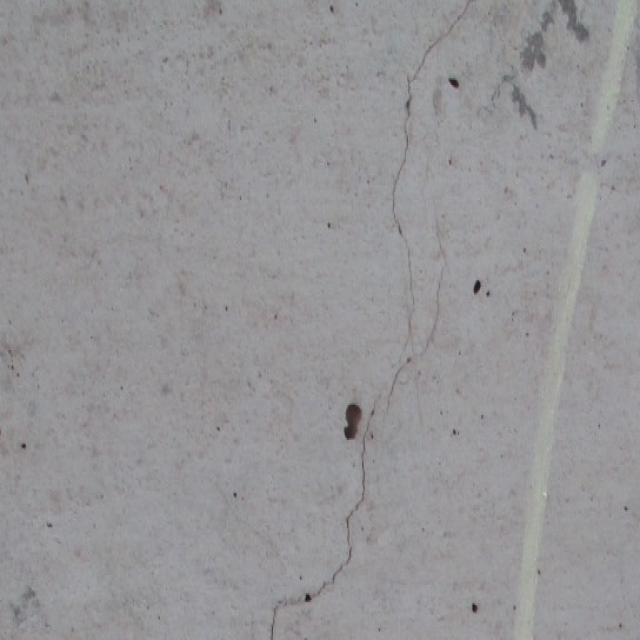Longitudinal: (227, 0, 472, 640)
